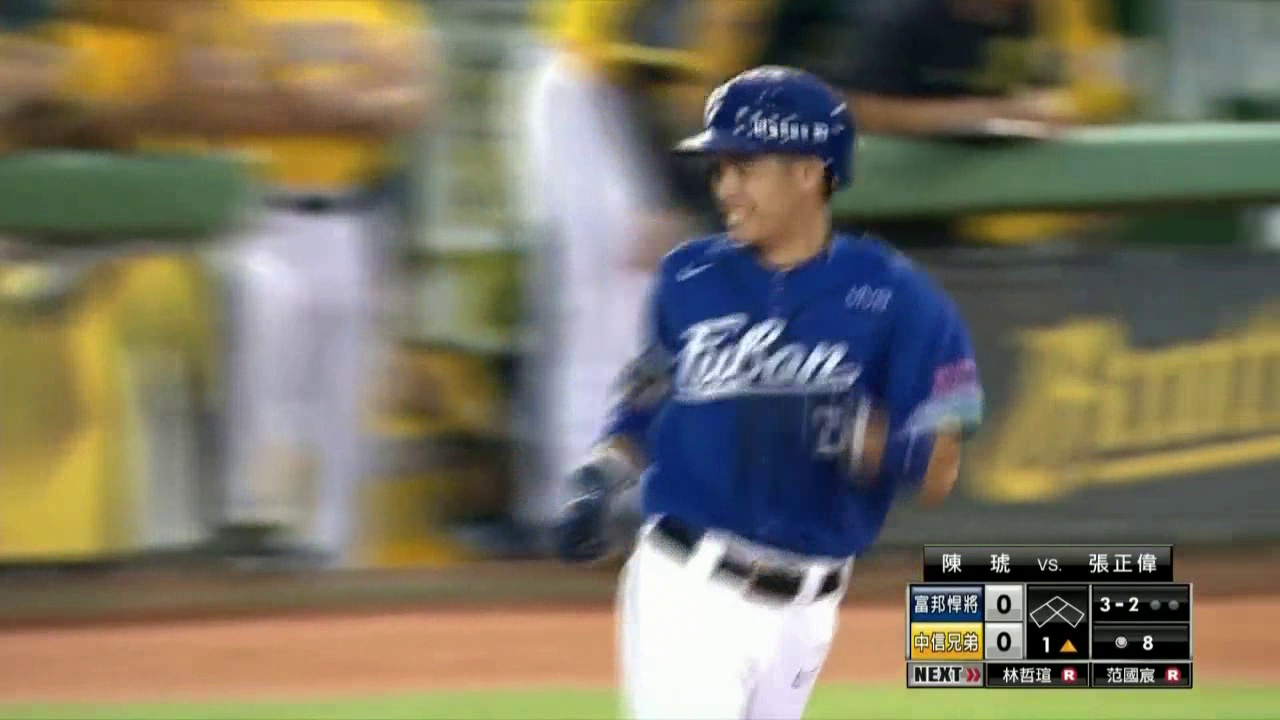base: (1021, 590, 1091, 634)
out: (1144, 593, 1182, 615)
score1: (991, 591, 1021, 620)
score2: (986, 627, 1021, 658)
session: (1027, 633, 1086, 661)
strikeball: (1093, 588, 1141, 617)
total: (1108, 631, 1163, 656)
